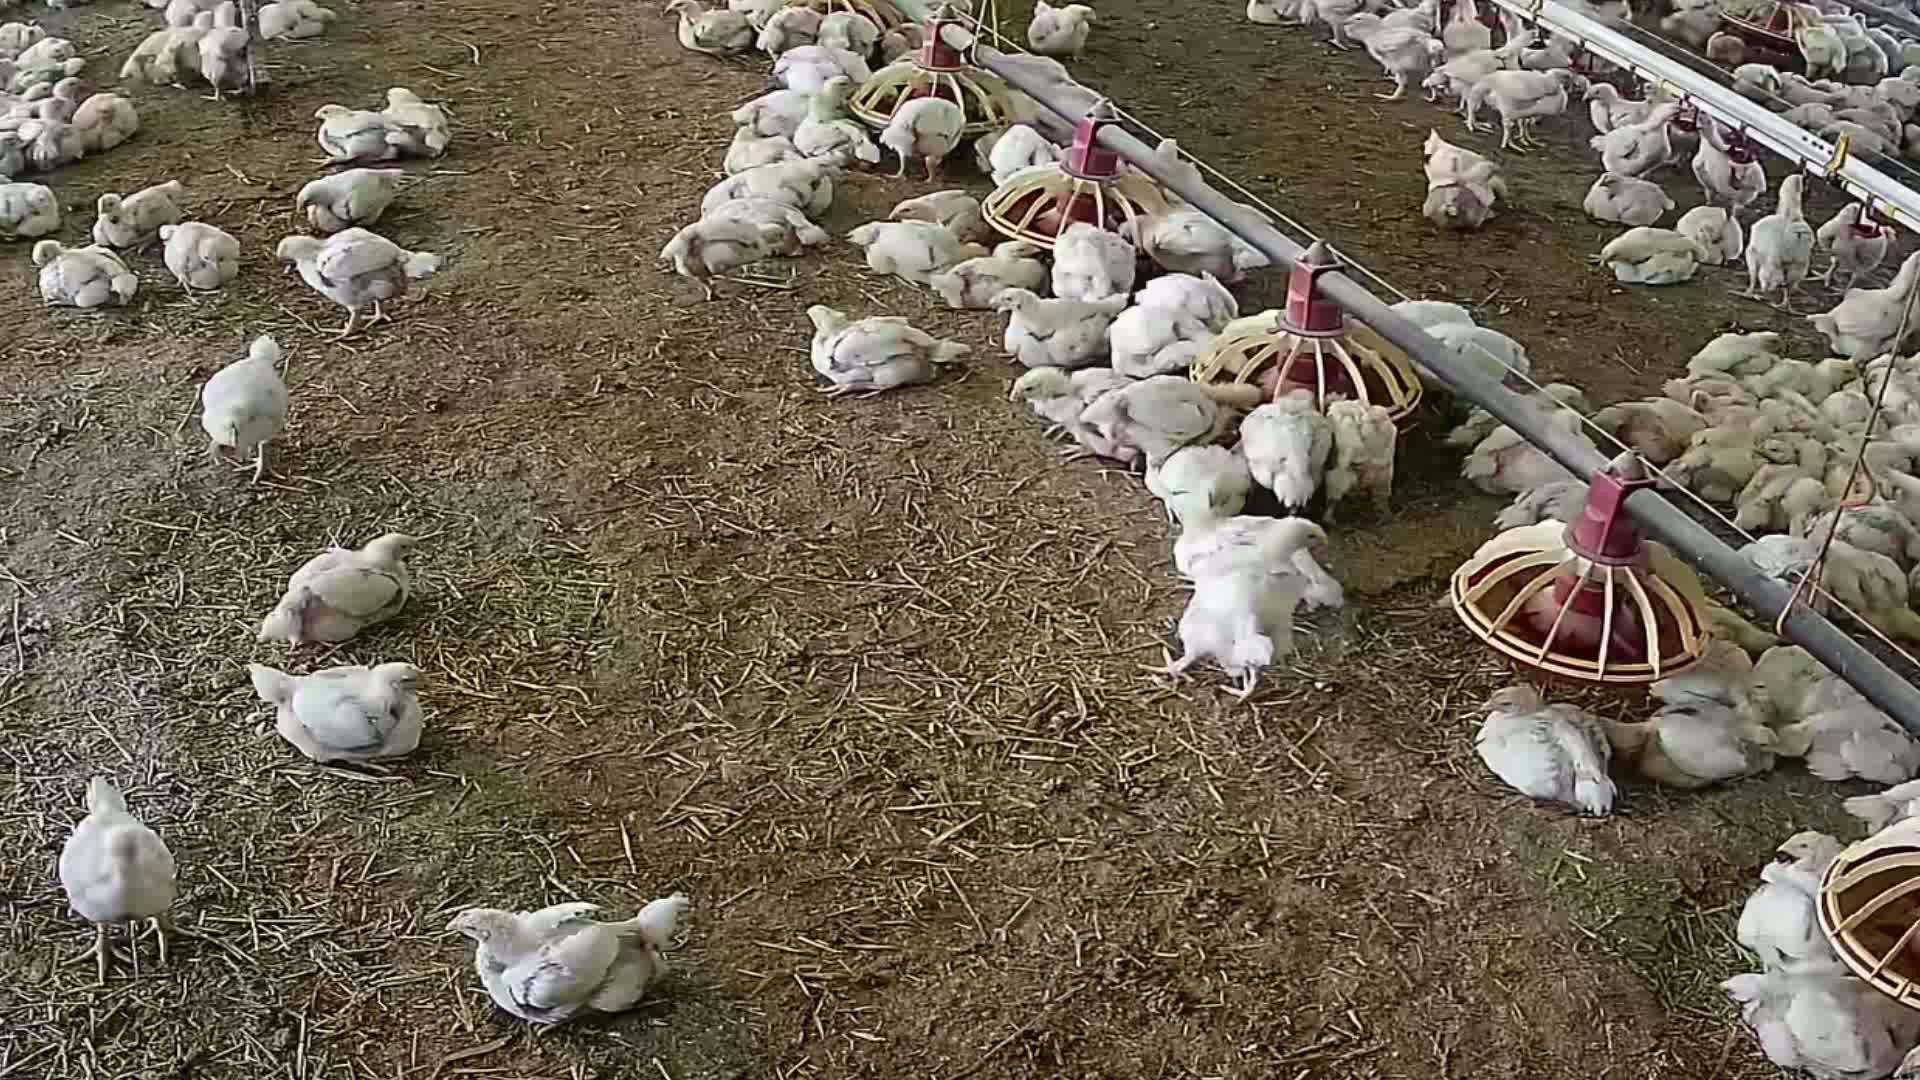poussin: (422, 840, 728, 1063), (22, 781, 220, 986), (1182, 495, 1335, 737), (239, 644, 448, 815), (257, 517, 473, 670), (181, 343, 363, 488), (280, 235, 480, 363), (1468, 674, 1619, 832), (1734, 815, 1879, 971), (1729, 964, 1916, 1080), (798, 298, 975, 409), (1174, 500, 1346, 612), (1643, 709, 1817, 818), (1013, 352, 1156, 468), (1097, 368, 1247, 465), (653, 211, 785, 318), (984, 277, 1126, 372), (1735, 169, 1829, 309), (1320, 385, 1403, 538), (1114, 276, 1244, 373), (1821, 241, 1920, 367), (29, 233, 166, 322), (80, 165, 212, 255), (876, 84, 989, 189), (1137, 203, 1271, 285), (1584, 87, 1688, 190), (695, 149, 848, 219), (1527, 444, 1655, 527), (1822, 539, 1920, 647), (1255, 378, 1332, 512), (1487, 409, 1592, 505), (1051, 216, 1150, 315), (1793, 690, 1899, 782), (1687, 105, 1771, 219), (1601, 382, 1710, 469), (928, 236, 1054, 310), (1489, 69, 1585, 164), (160, 222, 272, 302), (853, 218, 996, 281), (1449, 33, 1557, 116), (700, 193, 836, 258), (297, 166, 415, 241), (728, 73, 861, 138), (1348, 11, 1440, 105), (1155, 440, 1254, 527), (1601, 219, 1708, 299), (1672, 655, 1792, 724), (641, 0, 761, 69), (1418, 141, 1511, 228), (800, 82, 881, 182), (1427, 320, 1534, 394), (1818, 191, 1891, 295), (1469, 389, 1597, 447), (1367, 280, 1481, 342), (382, 79, 455, 166), (194, 0, 256, 102), (306, 99, 398, 166), (986, 116, 1068, 190), (1683, 319, 1784, 377), (1849, 769, 1920, 851), (135, 18, 214, 91), (1023, 0, 1112, 65), (75, 86, 145, 166), (777, 37, 873, 95), (1754, 348, 1862, 400), (893, 187, 1001, 233), (810, 0, 891, 61), (0, 177, 73, 244), (1815, 505, 1913, 554), (1588, 169, 1672, 225), (21, 98, 86, 170), (1742, 480, 1822, 538), (748, 0, 822, 61), (1679, 200, 1747, 265), (261, 0, 344, 53), (1280, 0, 1364, 53), (1581, 75, 1651, 128), (1818, 440, 1869, 504), (9, 33, 88, 73), (1687, 384, 1751, 425), (33, 71, 86, 119), (1160, 132, 1205, 183), (1731, 61, 1783, 104), (1443, 0, 1491, 44), (1232, 0, 1295, 32), (0, 20, 57, 54), (0, 79, 54, 107), (1756, 434, 1796, 468), (899, 21, 930, 46)
